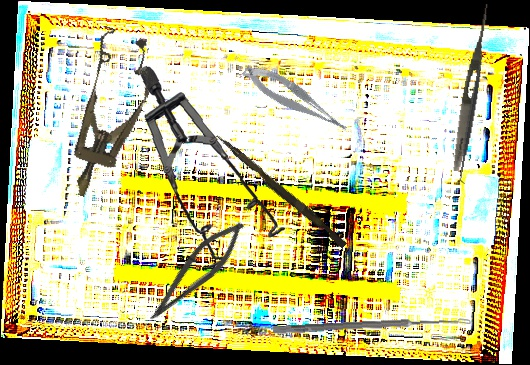Dressing Forceps: (448, 2, 494, 173)
Micro Scissor: (141, 210, 253, 334), (239, 54, 352, 146)
Pusher: (211, 133, 350, 249)
Spatula Surgical: (451, 46, 491, 185)
Speculum: (127, 64, 296, 273), (49, 24, 165, 207)
Surgical Spoon: (272, 315, 472, 336)
